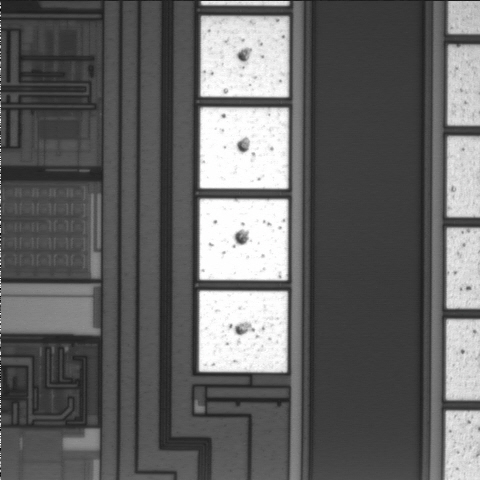pad: (200, 107, 289, 189), (200, 16, 289, 97), (199, 199, 288, 280), (199, 291, 288, 372)
